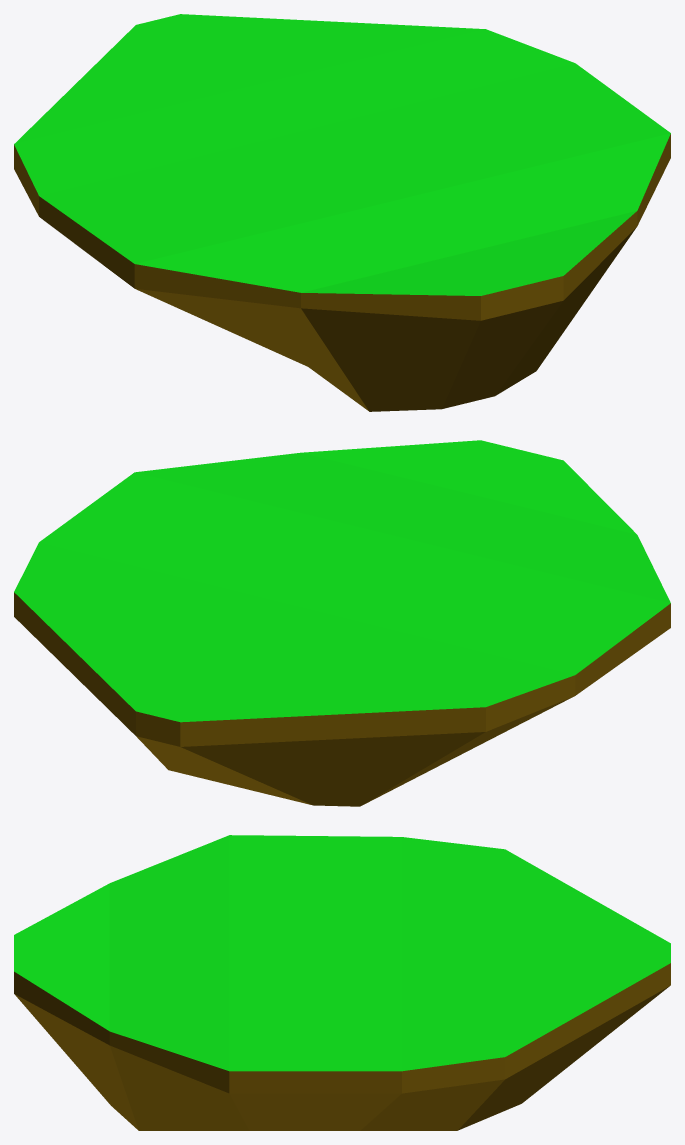
File: SecondaryIsland.fbx
3 views of the same model, one above another, from view 1: azimuth 30°, elevation 25°; view 2: azimuth 150°, elevation 25°; view 3: azimuth 270°, elevation 25° (orthographic). The views are drawn at different scales.
Visible parts, largest first — view 1: Island.001; view 2: Island.001; view 3: Island.001.
Boxes of the visible parts, <box> form: Island.001: <box>14,14,670,411</box>; Island.001: <box>14,440,670,806</box>; Island.001: <box>14,835,670,1130</box>.
Bounding box in the file's own units: 4540 × 1263 × 5338.
